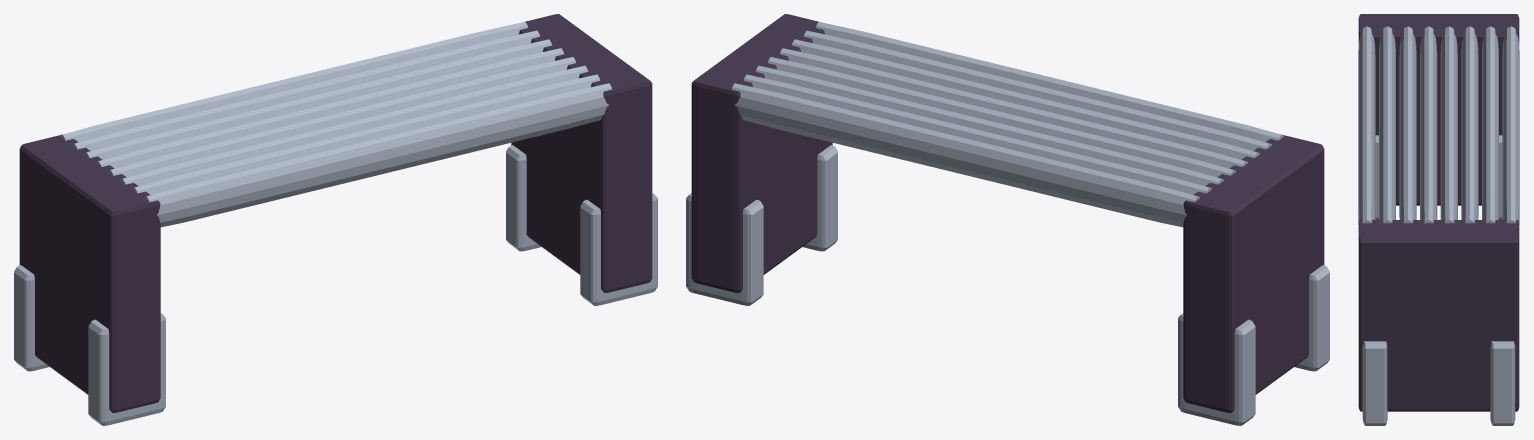
File: conveyor.glb
The picture shows the model from 3 angles, left to right: view 1: azimuth 30°, elevation 25°; view 2: azimuth 150°, elevation 25°; view 3: azimuth 270°, elevation 25°; orthographic projection. The views are drawn at different scales.
Visible parts, largest first — view 1: model; view 2: model; view 3: model.
Part boxes in pixels (<box>): model: <box>14,14,657,425</box>; model: <box>686,14,1329,425</box>; model: <box>1358,14,1519,425</box>.
Bounding box in the file's own units: 2.4 × 0.9 × 0.7.
